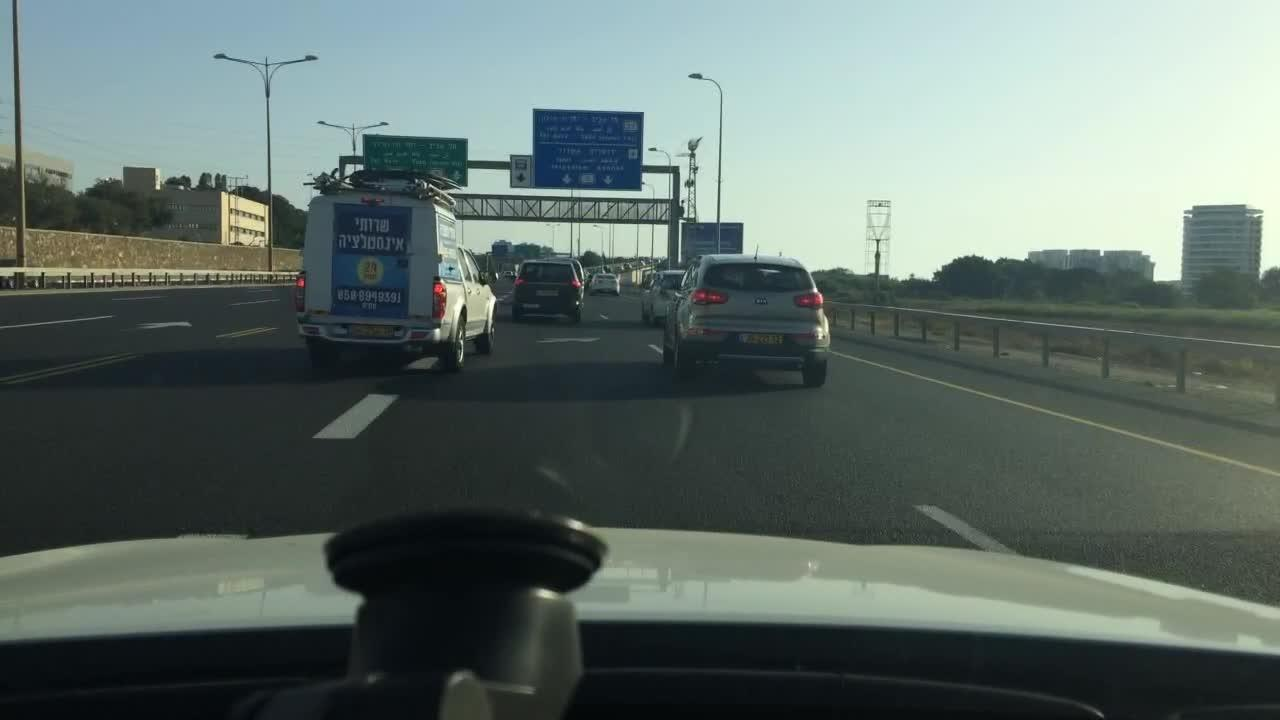kia: (753, 296, 774, 310)
